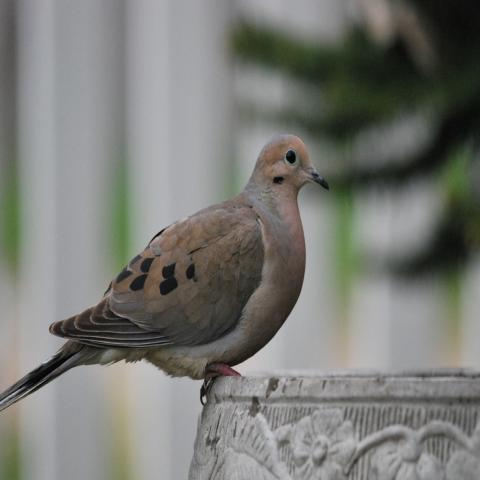bird: (1, 130, 330, 412)
